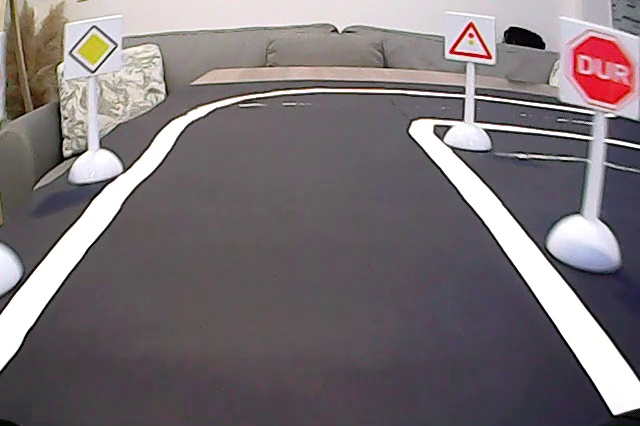red light: (446, 13, 496, 62)
stop sign: (561, 17, 634, 114)
